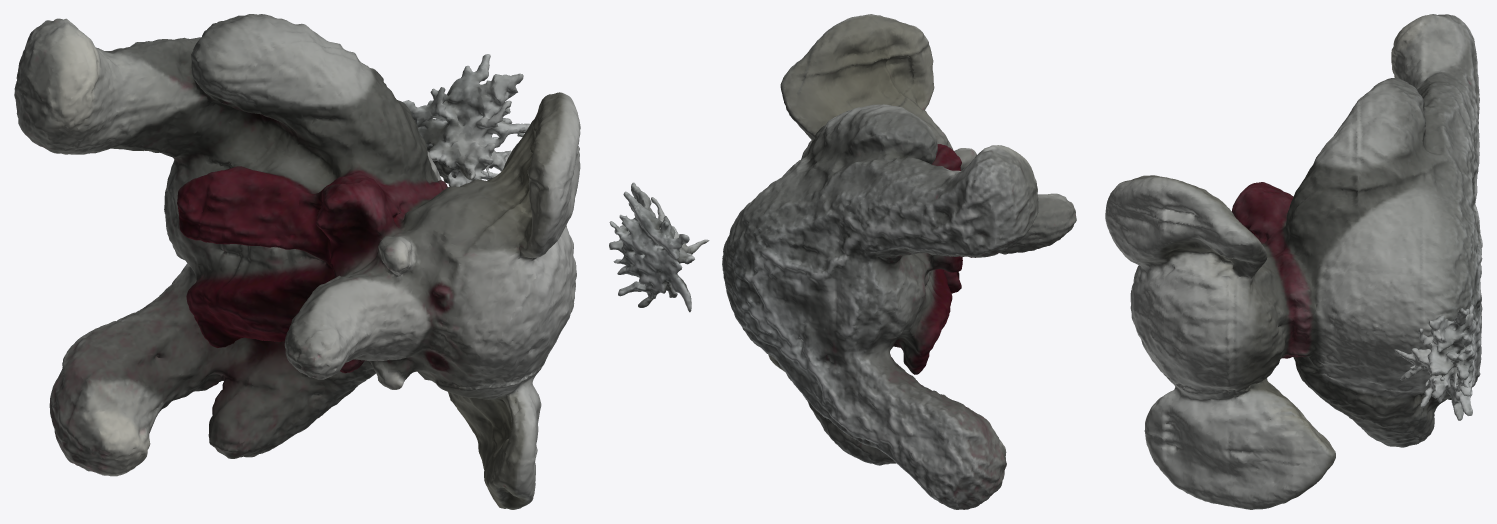
Rendered from elephant.glb.
3 renders of one model, left to right at view 1: azimuth 30°, elevation 25°; view 2: azimuth 150°, elevation 25°; view 3: azimuth 270°, elevation 25°, orthographic. The views are drawn at different scales.
Bounding box in the file's own units: 1 × 0.8511 × 0.7922.
